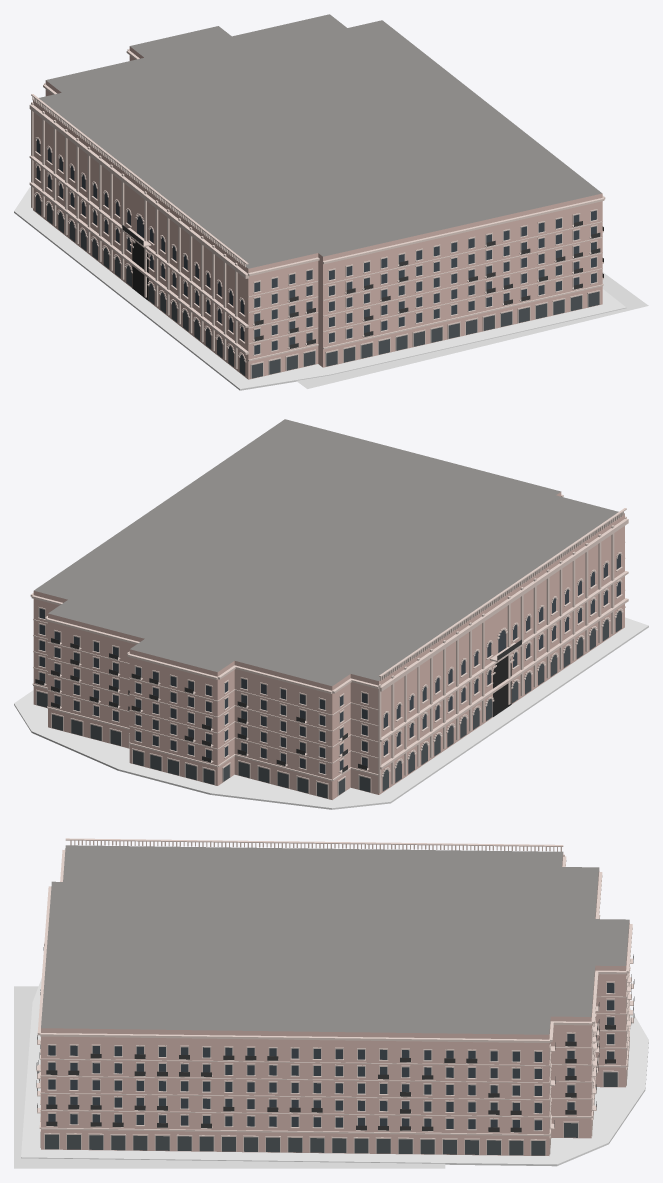
Rendered from chunk_05_02.glb.
The picture shows the model from 3 angles, top to bottom: view 1: azimuth 30°, elevation 25°; view 2: azimuth 150°, elevation 25°; view 3: azimuth 270°, elevation 25°; orthographic projection. The views are drawn at different scales.
Visible parts, largest first — view 1: chunk_05_02_LOD0; view 2: chunk_05_02_LOD0; view 3: chunk_05_02_LOD0.
Part boxes in pixels (bbox=[...]): chunk_05_02_LOD0: bbox=[14, 14, 648, 390]; chunk_05_02_LOD0: bbox=[14, 419, 648, 809]; chunk_05_02_LOD0: bbox=[14, 838, 648, 1168].
Size of what is drawn, in the model's own units: 91.98 by 26.5 by 118.
